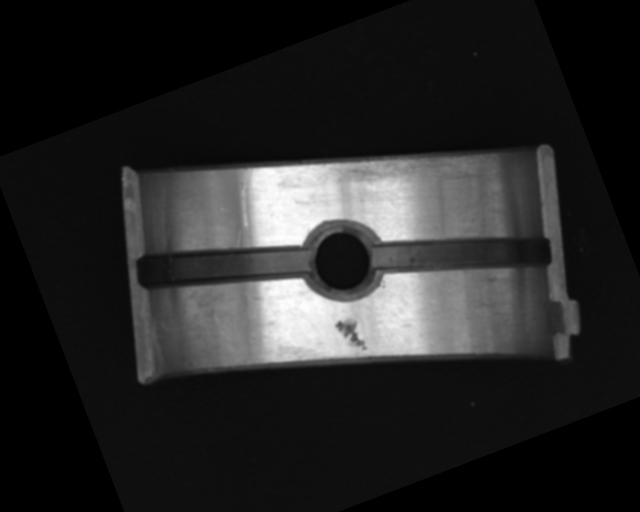bruise: (333, 313, 369, 358)
gap: (369, 187, 553, 323), (132, 202, 313, 329)
hole: (290, 211, 393, 310)
nick: (226, 164, 272, 227)
scratch: (269, 96, 497, 251)
